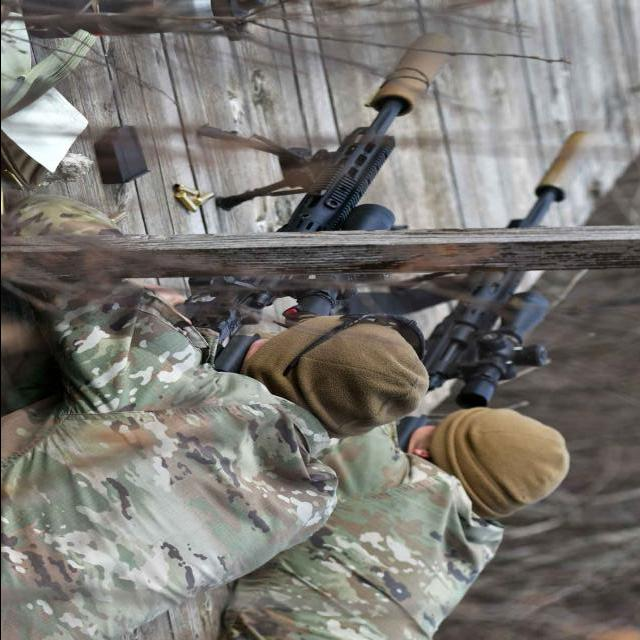scope: (450, 277, 563, 416), (273, 210, 405, 328)
sniper rifle: (159, 29, 468, 366), (421, 127, 603, 420)
